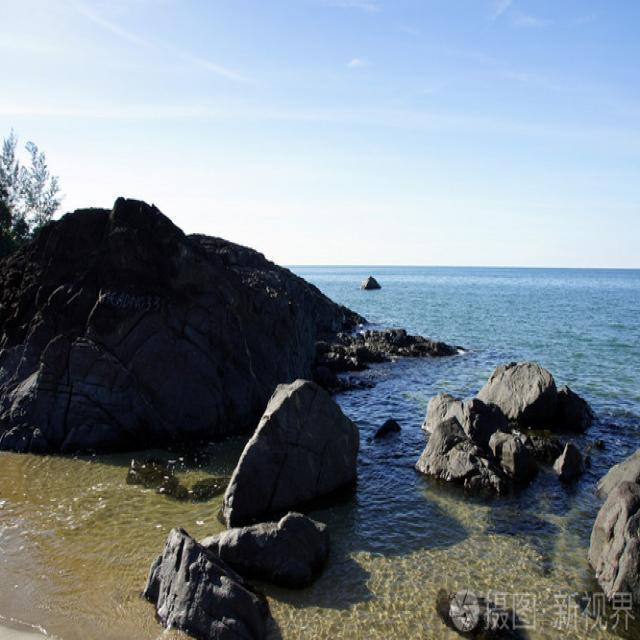reef: (114, 398, 390, 640), (188, 224, 430, 406), (402, 331, 585, 508)
